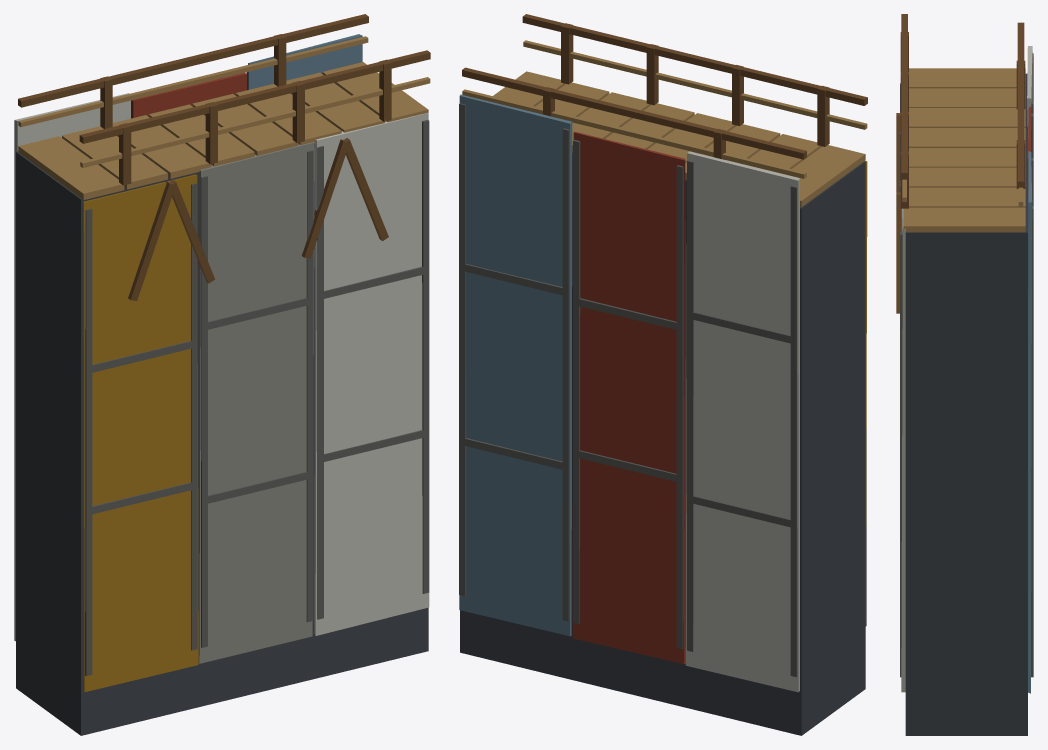
Rendered from fort_patchwork_wall.glb.
3 renders of one model, left to right at view 1: azimuth 30°, elevation 25°; view 2: azimuth 150°, elevation 25°; view 3: azimuth 270°, elevation 25°, orthographic. The views are drawn at different scales.
Parts seen in each view (by area): view 1: fort_patchwork_wall; view 2: fort_patchwork_wall; view 3: fort_patchwork_wall.
Part boxes in pixels (x1,y1,x2,y2): fort_patchwork_wall: (14,14,430,735); fort_patchwork_wall: (459,14,867,735); fort_patchwork_wall: (896,14,1033,735).
Bounding box in the file's own units: 8 × 13.2 × 2.92.
